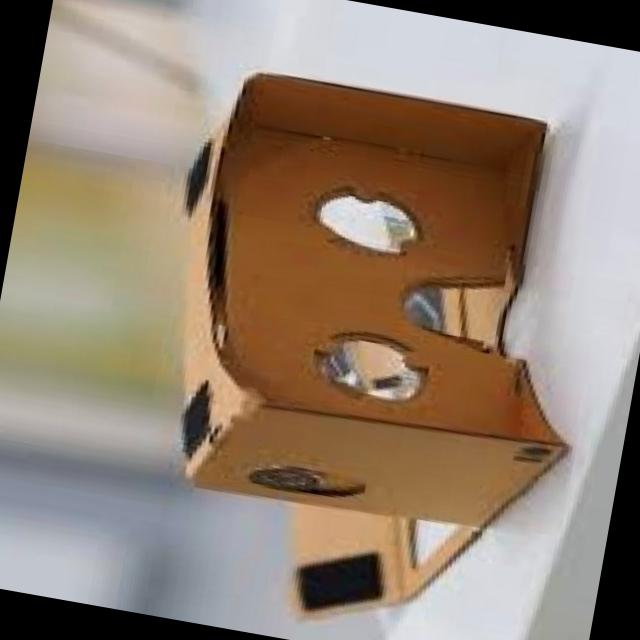cardboard paper: (180, 75, 563, 616)
